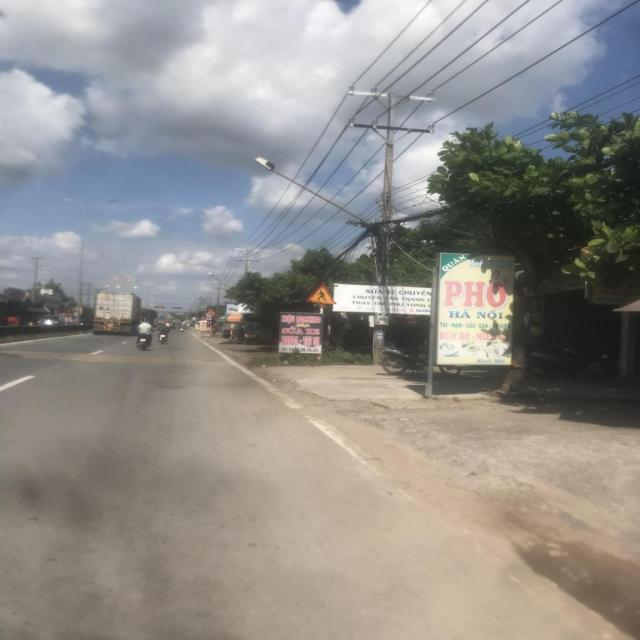cam_quay_dau_xe: (205, 312, 213, 317)
chu_y_nguoi_di_bo_cat_ngang: (306, 282, 338, 304)
giao_nhau_voi_duong_khong_uu_tien: (207, 308, 215, 314)
khac: (225, 303, 238, 315), (206, 317, 211, 320)
